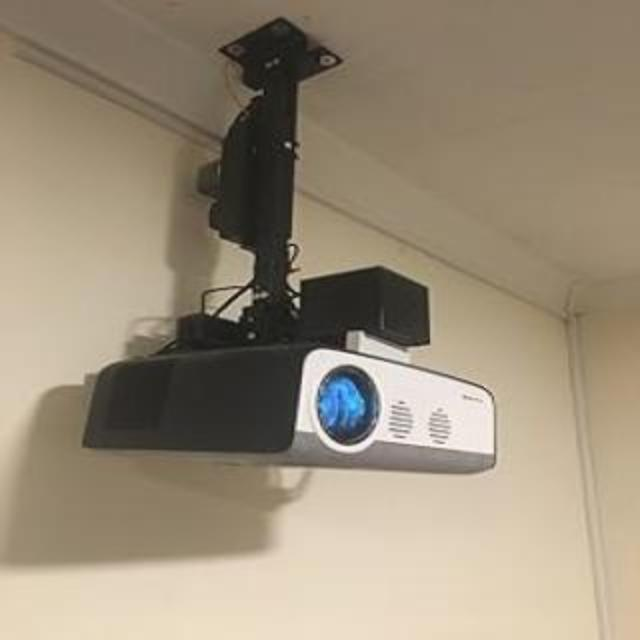Projector: (80, 268, 510, 474)
